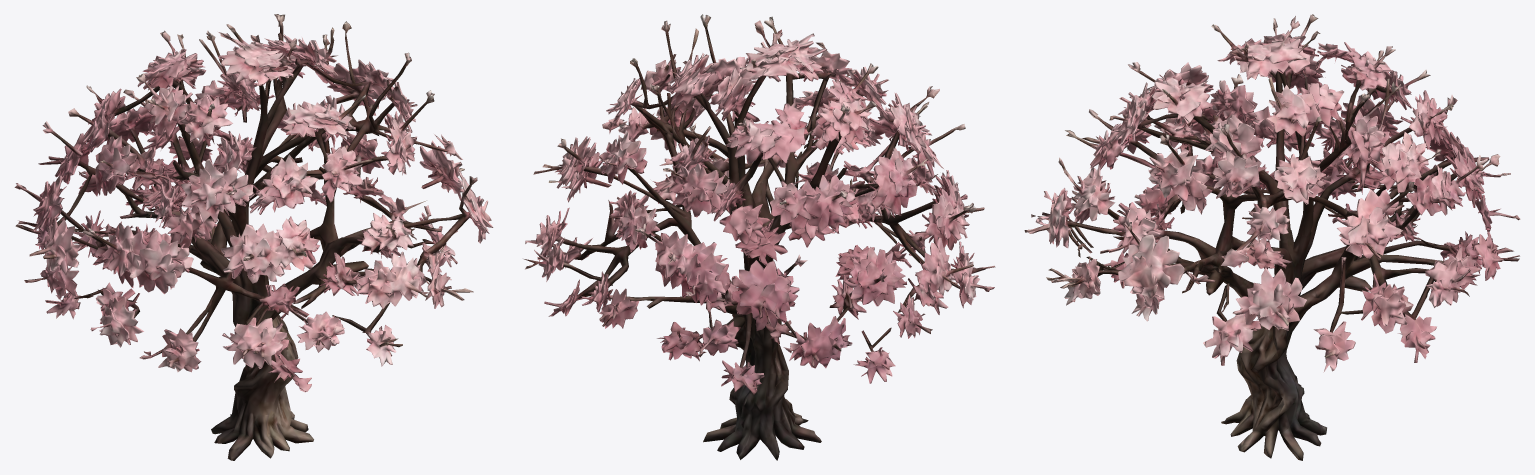
Rendered from peach-high.glb.
3 views of the same model, side by side, from view 1: azimuth 30°, elevation 25°; view 2: azimuth 150°, elevation 25°; view 3: azimuth 270°, elevation 25° (orthographic).
Size of the model in its own units: 0.976 by 0.9017 by 0.9966.
Materials: 1 (1 with a texture image).
